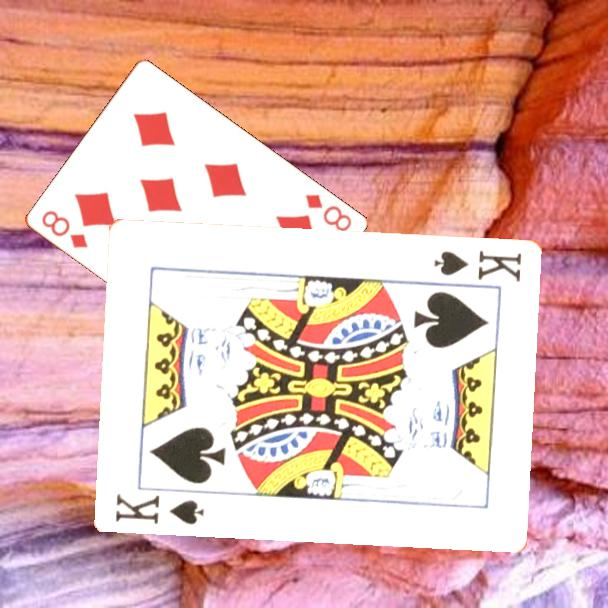d08: (37, 207, 90, 251), (301, 191, 354, 235)
s13: (112, 489, 207, 527), (431, 246, 525, 284)
